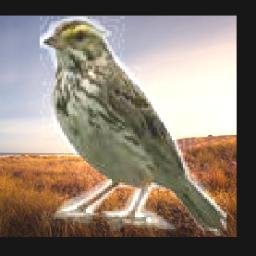Sparrow: (41, 16, 228, 236)
